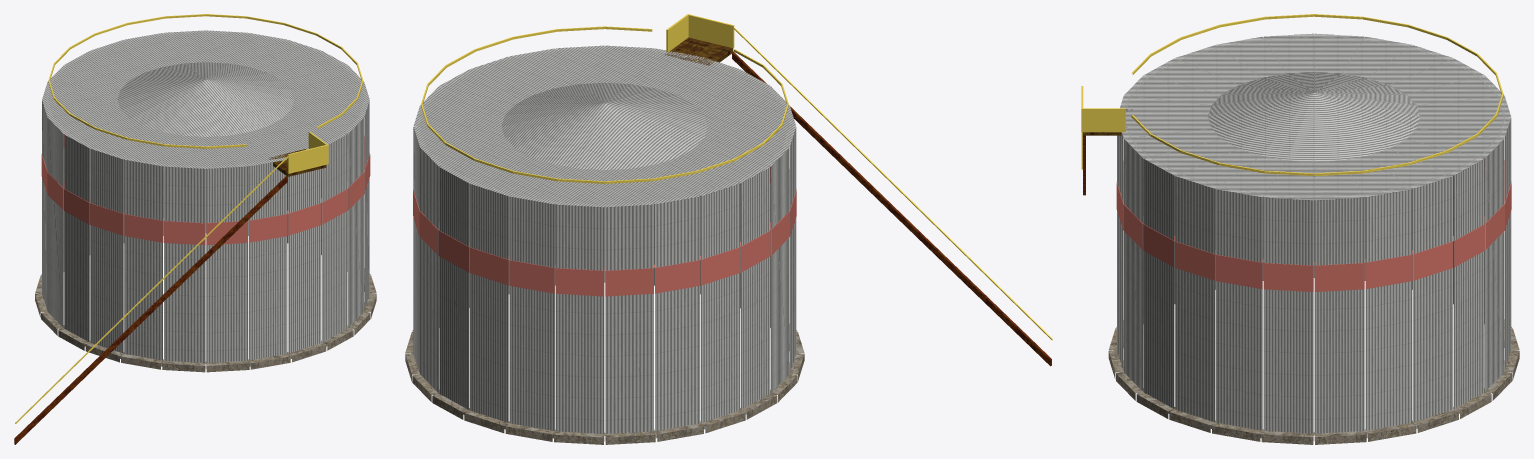
Rendered from ew-tank-white.works-v1.lod1.glb.
3 views of the same model, side by side, from view 1: azimuth 30°, elevation 25°; view 2: azimuth 150°, elevation 25°; view 3: azimuth 270°, elevation 25° (orthographic). The views are drawn at different scales.
Parts seen in each view (by area): view 1: ew-tank-white; view 2: ew-tank-white; view 3: ew-tank-white.
Part boxes in pixels (x1,y1,x2,y2): ew-tank-white: (14,14,376,444); ew-tank-white: (405,14,1052,444); ew-tank-white: (1081,14,1519,444).
Bounding box in the file's own units: 24.96 × 12.35 × 18.13.
Materials: 4 (3 with a texture image).
